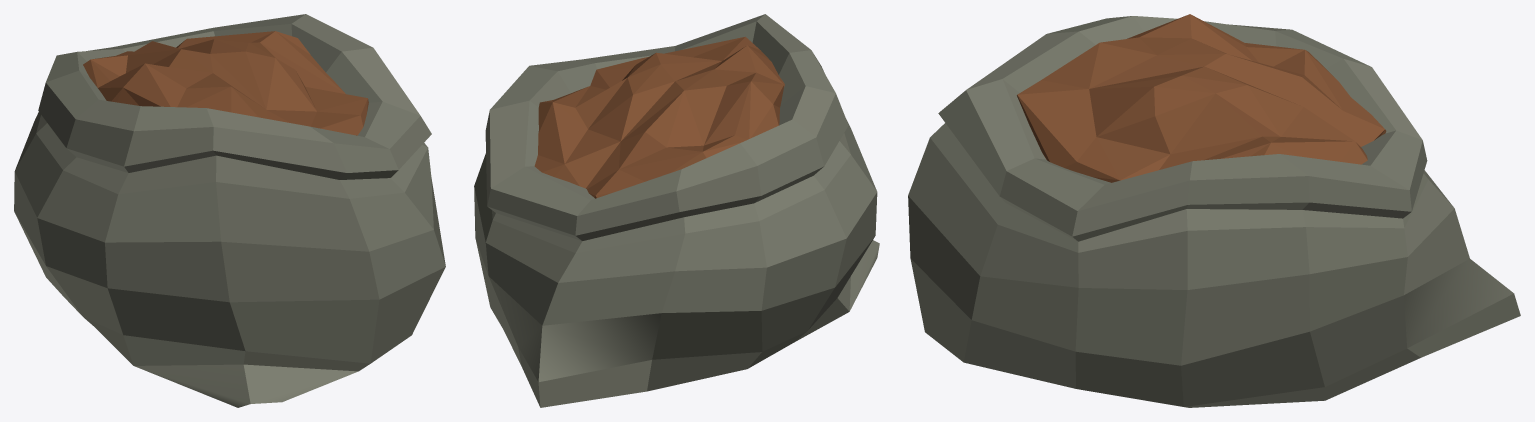
Rendered from SM_Prop_Sack_Large_02.fbx.
The picture shows the model from 3 angles, left to right: view 1: azimuth 30°, elevation 25°; view 2: azimuth 150°, elevation 25°; view 3: azimuth 270°, elevation 25°; orthographic projection. The views are drawn at different scales.
Visible parts, largest first — view 1: SM_Prop_Sack_Large_02; view 2: SM_Prop_Sack_Large_02; view 3: SM_Prop_Sack_Large_02.
Boxes of the visible parts, box(x1,y1,x2,y2) form: SM_Prop_Sack_Large_02: box(14, 14, 445, 407); SM_Prop_Sack_Large_02: box(474, 14, 879, 407); SM_Prop_Sack_Large_02: box(908, 14, 1520, 407).
Bounding box in the file's own units: 115 × 81.37 × 158.
